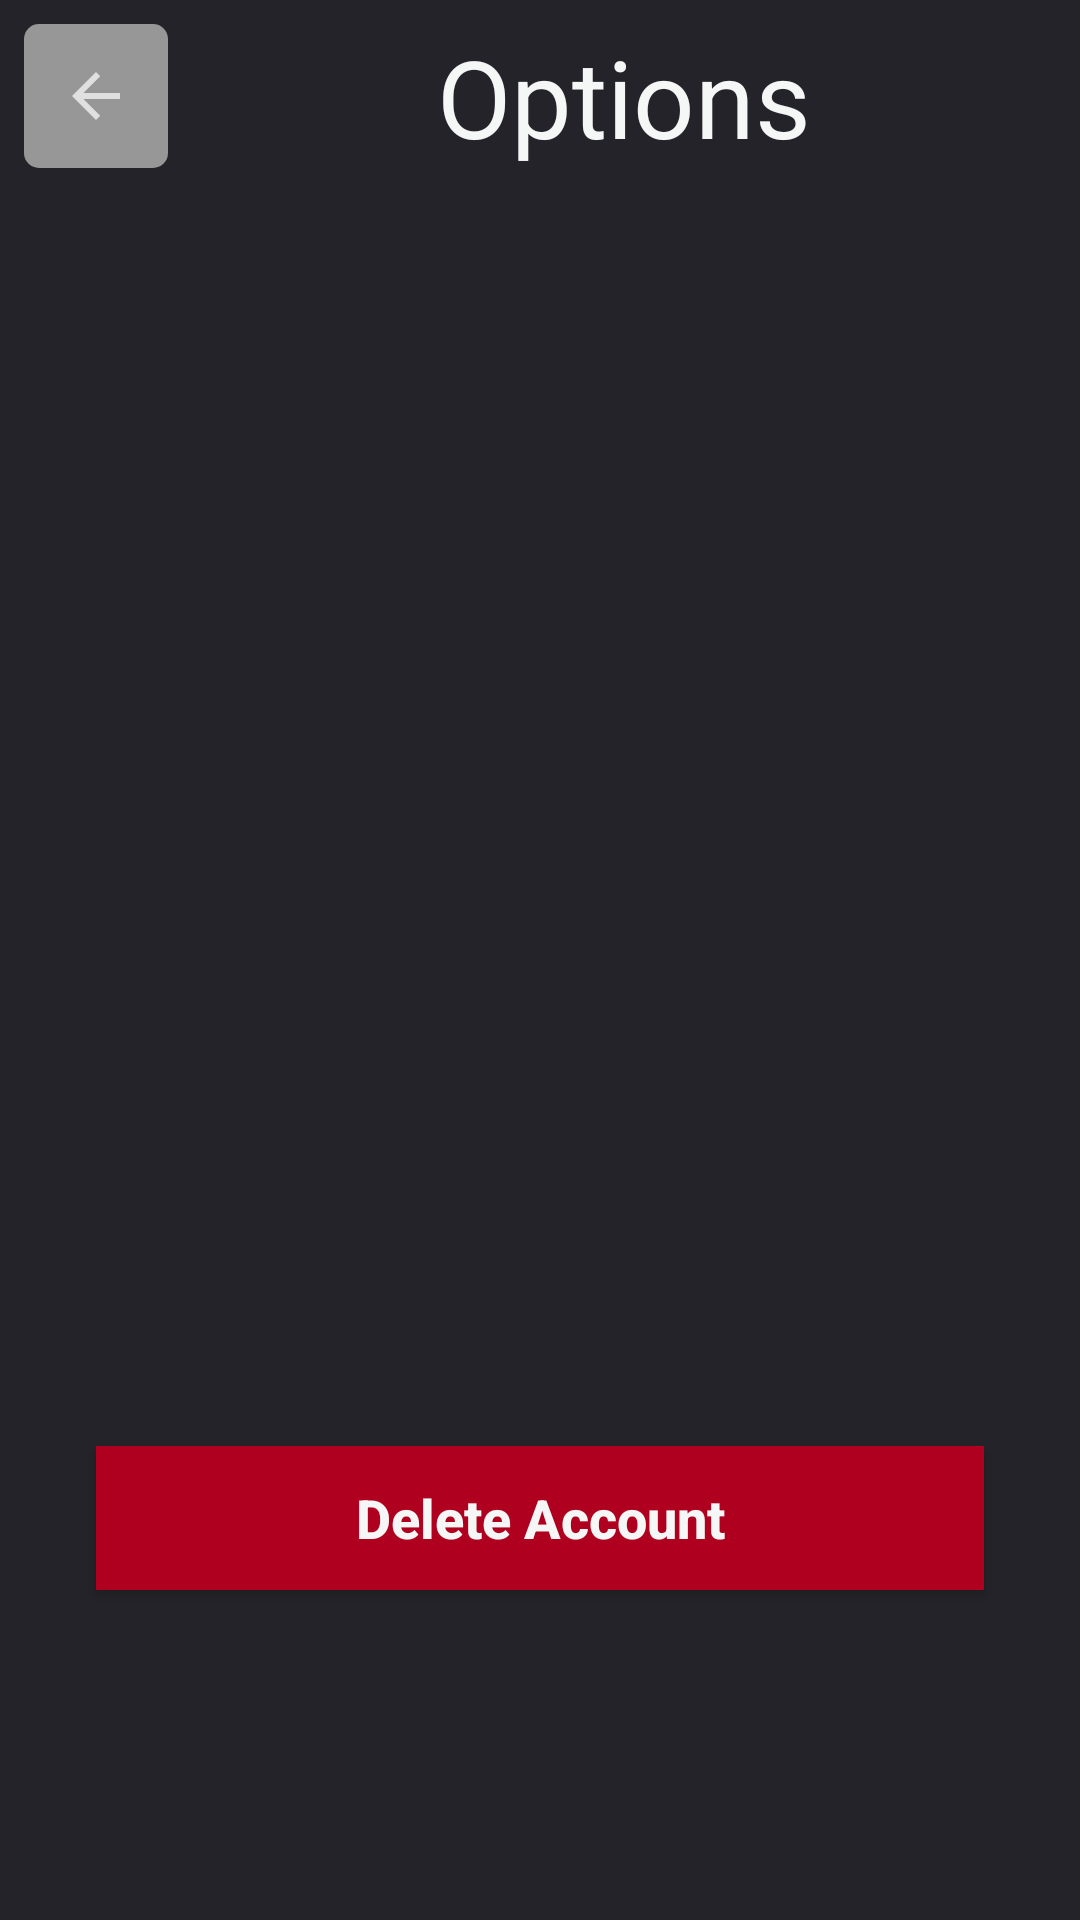

Locate icon controls on the screen. Image size 1080px x 1920px, boxes as (x1, y1, x2, y2).
Return: (24, 24, 168, 168)
